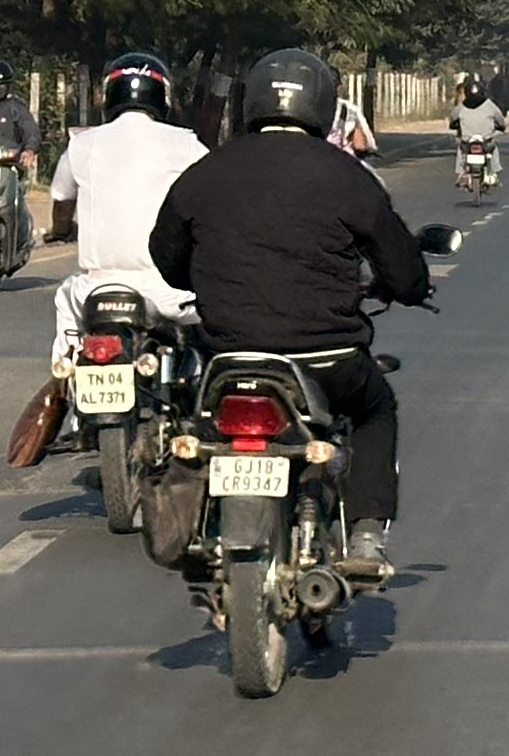BikeWithRider: (131, 39, 466, 703), (8, 41, 227, 543), (0, 52, 44, 292), (438, 65, 509, 209)
Helmet: (232, 44, 342, 143), (92, 48, 181, 127), (0, 54, 17, 103), (459, 77, 487, 98)
